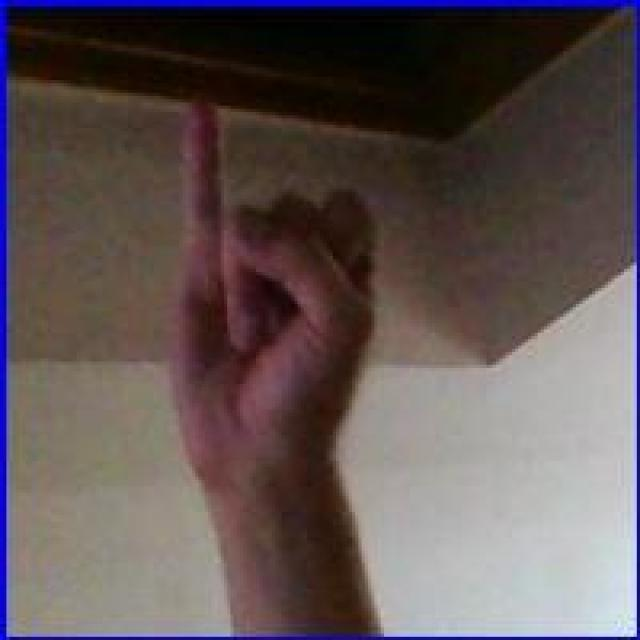I: (170, 90, 380, 502)
